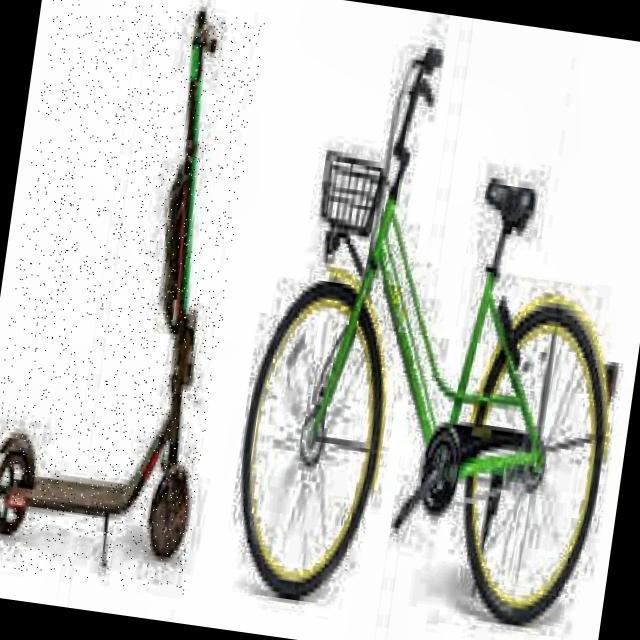bike: (241, 43, 611, 628)
